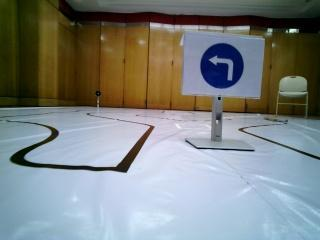left: (188, 32, 269, 97)
